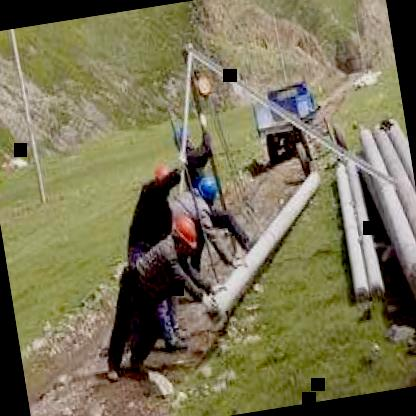helmet: (169, 210, 201, 262), (192, 173, 221, 205)
